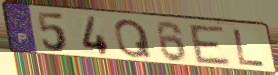4: (82, 15, 112, 57)
5: (36, 12, 72, 54)
6: (155, 20, 188, 63)
E: (187, 23, 234, 67)
L: (231, 28, 268, 68)
Q: (113, 18, 155, 60)
